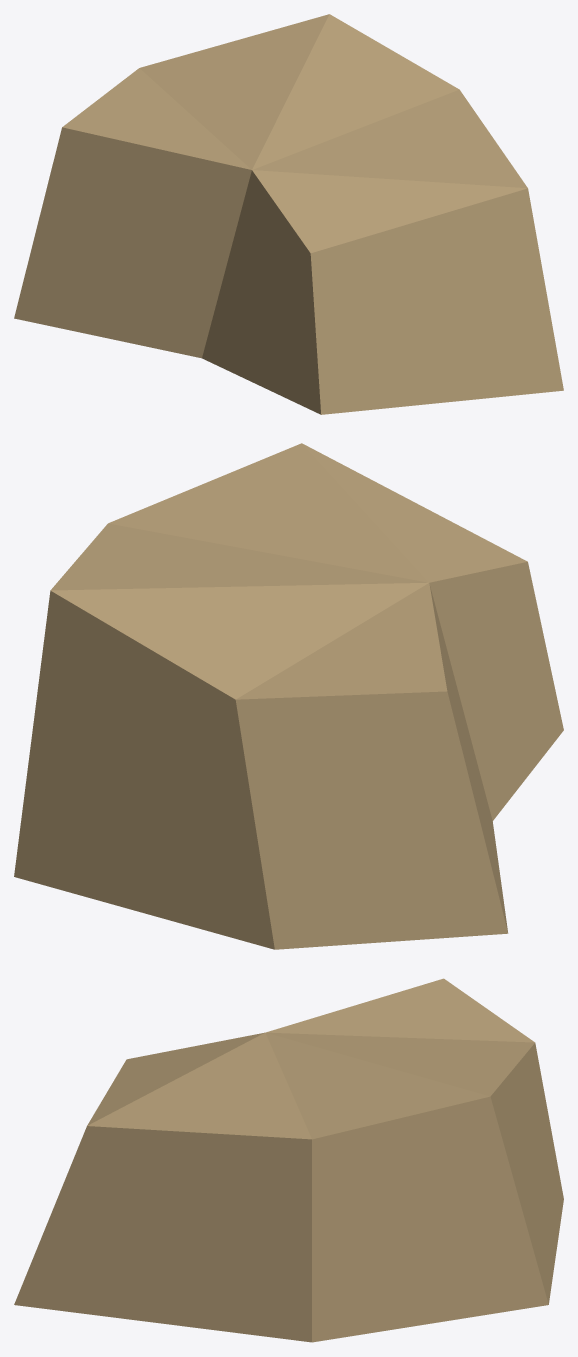
Rendered from FlatRock-C07.fbx.
3 renders of one model, top to bottom at view 1: azimuth 30°, elevation 25°; view 2: azimuth 150°, elevation 25°; view 3: azimuth 270°, elevation 25°, orthographic. The views are drawn at different scales.
Visible parts, largest first — view 1: FlatRock-C07; view 2: FlatRock-C07; view 3: FlatRock-C07.
Boxes of the visible parts, x1,y1,x2,y2 form: FlatRock-C07: (14,14,563,414); FlatRock-C07: (14,443,563,949); FlatRock-C07: (14,978,563,1342).
Size of the model in its own units: 116 by 54.84 by 131.
